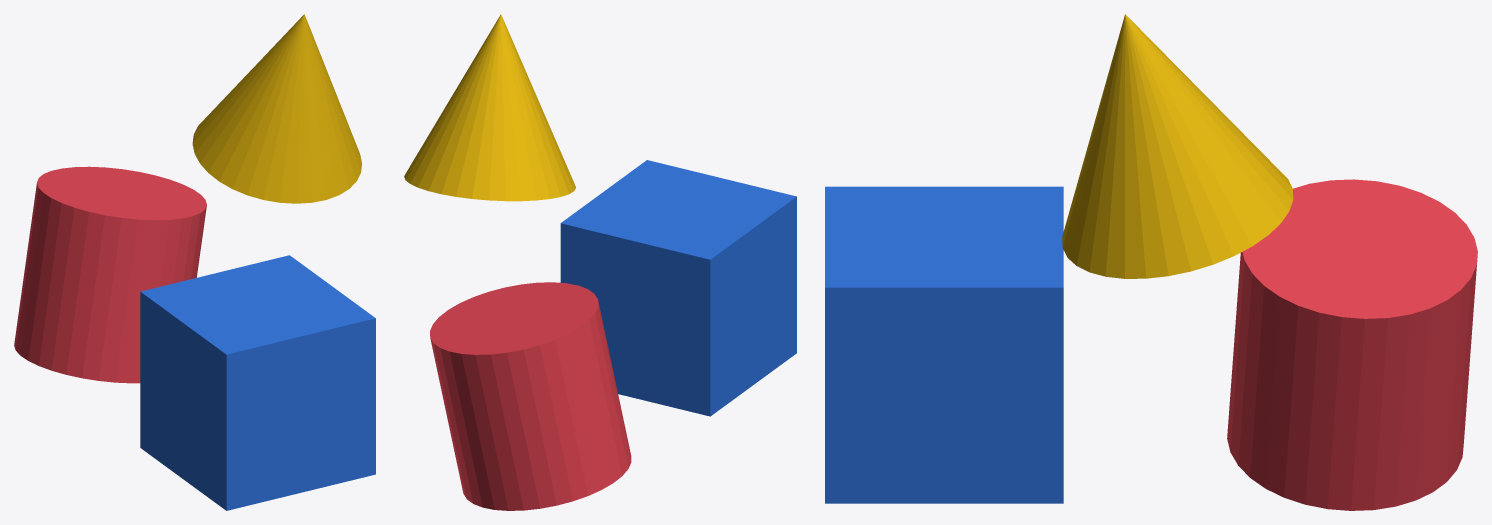
File: Elements3.gltf
The picture shows the model from 3 angles, left to right: view 1: azimuth 30°, elevation 25°; view 2: azimuth 150°, elevation 25°; view 3: azimuth 270°, elevation 25°; orthographic projection. The views are drawn at different scales.
Visible parts, largest first — view 1: Cube, Cylinder, Cone; view 2: Cube, Cylinder, Cone; view 3: Cube, Cylinder, Cone.
Boxes of the visible parts, box(x1,y1,x2,y2) form: Cube: box(140, 255, 375, 510); Cylinder: box(14, 166, 206, 383); Cone: box(192, 14, 361, 203); Cube: box(560, 160, 796, 416); Cylinder: box(430, 282, 631, 510); Cone: box(404, 14, 575, 201); Cube: box(825, 186, 1063, 503); Cylinder: box(1227, 179, 1477, 510); Cone: box(1062, 14, 1293, 278).
Bounding box in the file's own units: 1.84 × 2.56 × 2.84.
